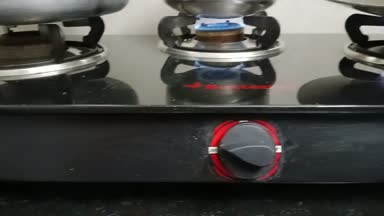flame_gas_on: (176, 9, 282, 185)
